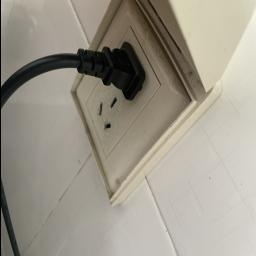outlet: (74, 0, 224, 223)
